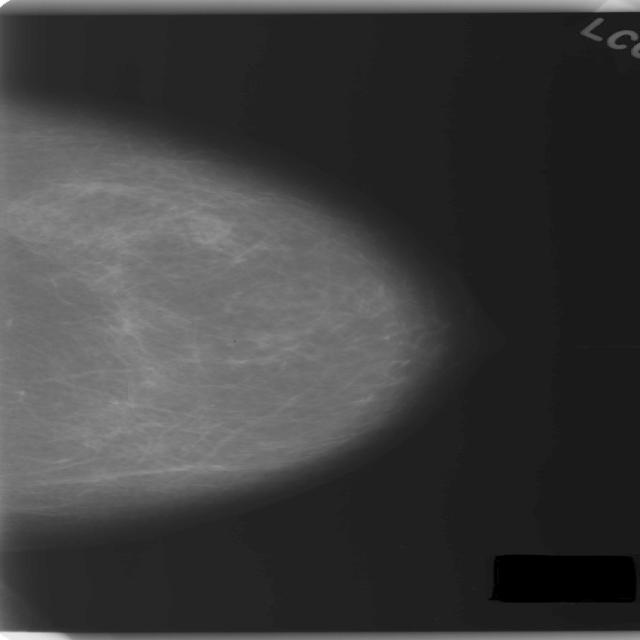tumour: (186, 211, 232, 246)
